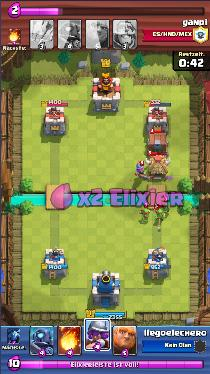ally_goblin_cage: (145, 131, 168, 155)
enemy_goblin_hut: (145, 154, 171, 181)
enemy_musketeer: (133, 162, 149, 180)
enemy_spear_goblin: (140, 208, 151, 223), (154, 207, 166, 220), (161, 204, 170, 215)
